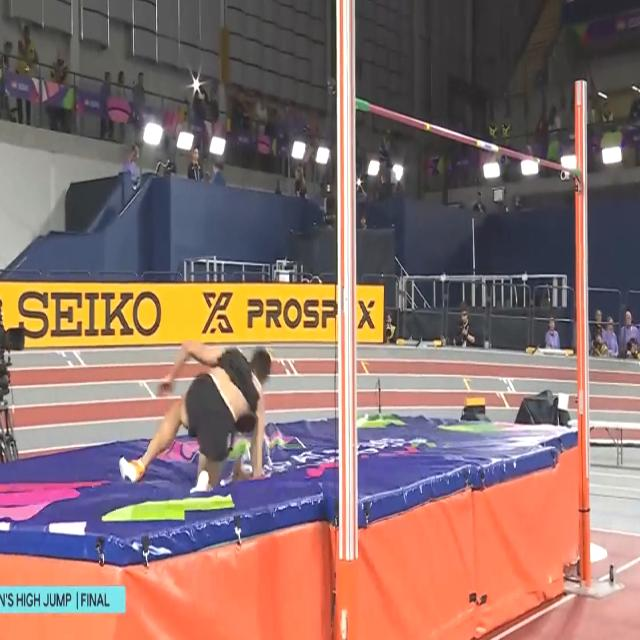land: (119, 338, 272, 497)
